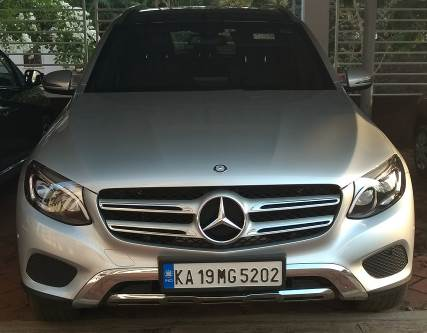number_plate: (160, 255, 286, 292)
